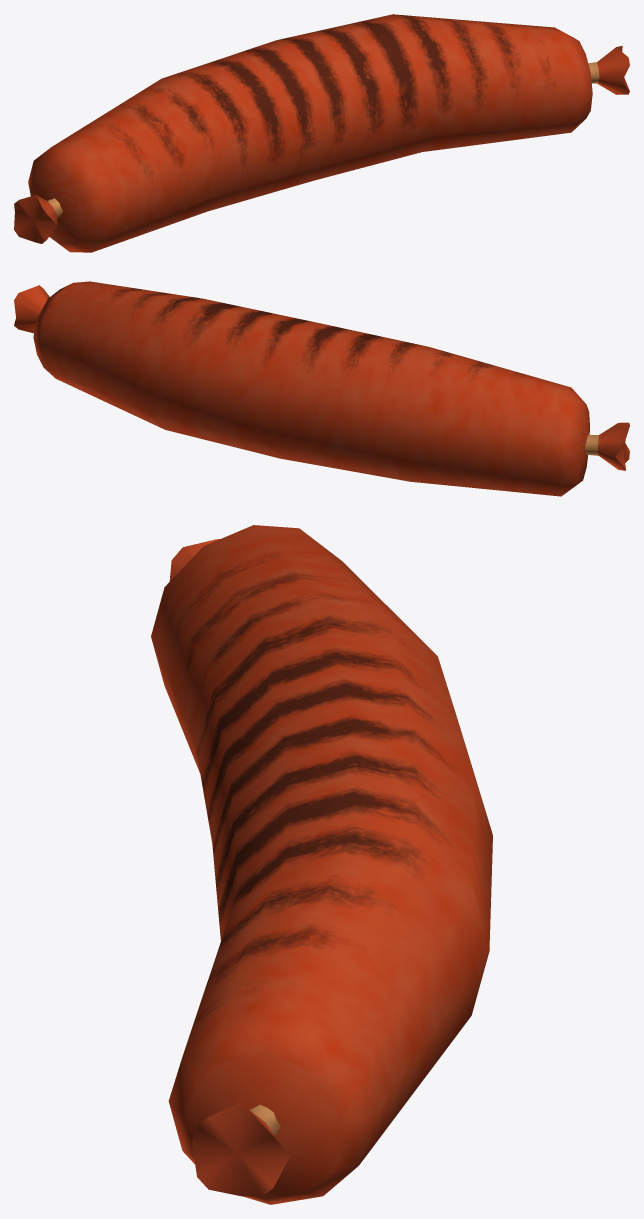
File: Balloon_Sausage_Art.fbx
The picture shows the model from 3 angles, top to bottom: view 1: azimuth 30°, elevation 25°; view 2: azimuth 150°, elevation 25°; view 3: azimuth 270°, elevation 25°; orthographic projection. The views are drawn at different scales.
Parts seen in each view (by area): view 1: Oktoberfest_Balloon_Sausage; view 2: Oktoberfest_Balloon_Sausage; view 3: Oktoberfest_Balloon_Sausage.
Part boxes in pixels (x1=…): Oktoberfest_Balloon_Sausage: x1=14, y1=14, x2=629, y2=252; Oktoberfest_Balloon_Sausage: x1=14, y1=281, x2=629, y2=496; Oktoberfest_Balloon_Sausage: x1=151, y1=525, x2=492, y2=1204.
Size of the model in its own units: 1895 by 387 by 464.
1 material, 1 textured.
